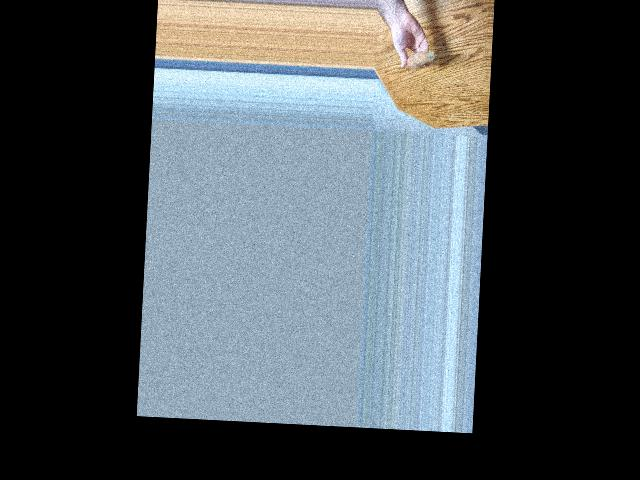sweet_potato: (404, 47, 435, 67)
